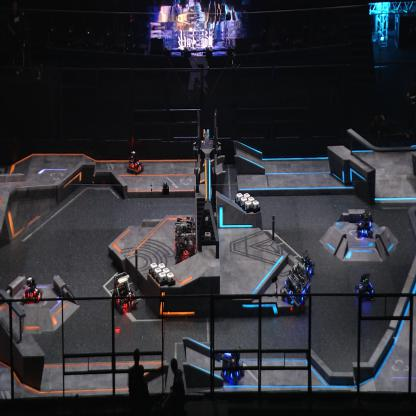car: (280, 262, 311, 315), (112, 272, 138, 315), (174, 217, 197, 264), (220, 347, 245, 384), (354, 273, 376, 302), (22, 275, 42, 305), (126, 150, 145, 175), (298, 249, 314, 278), (357, 212, 374, 239)
